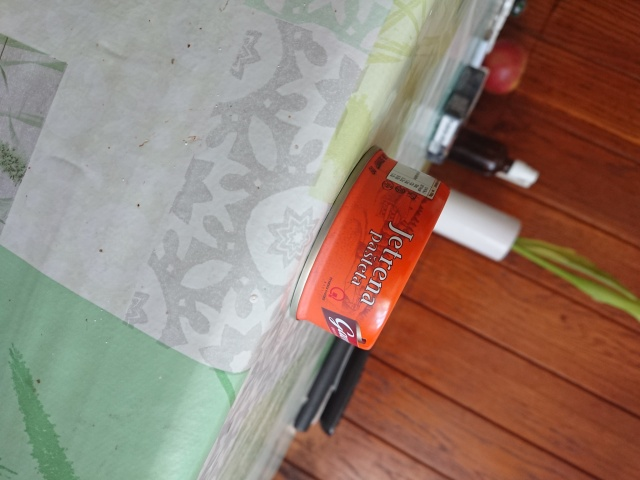Gavrilovic Pork Liver Pate 100g: (287, 142, 453, 353)
